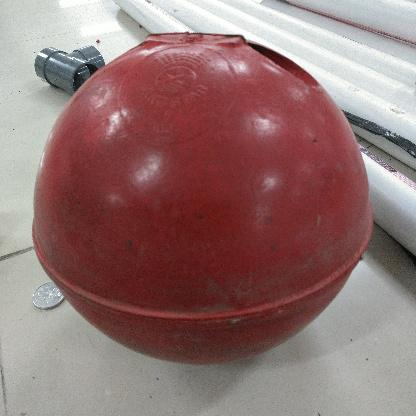red_buoy: (22, 29, 377, 369)
